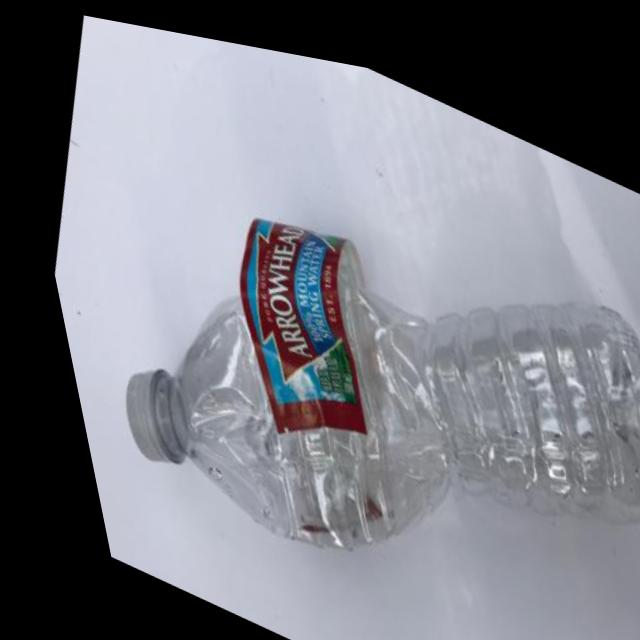plastic: (8, 53, 640, 640)
